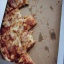pizza: (1, 1, 39, 64)
